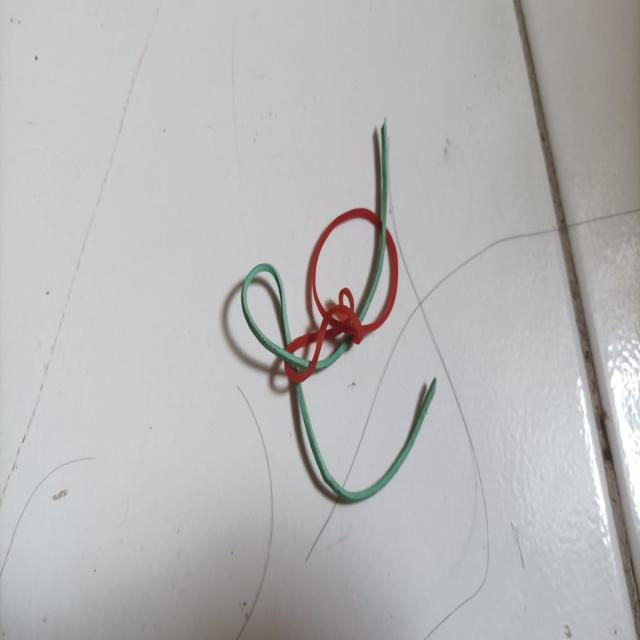Organik: (228, 100, 461, 520)
